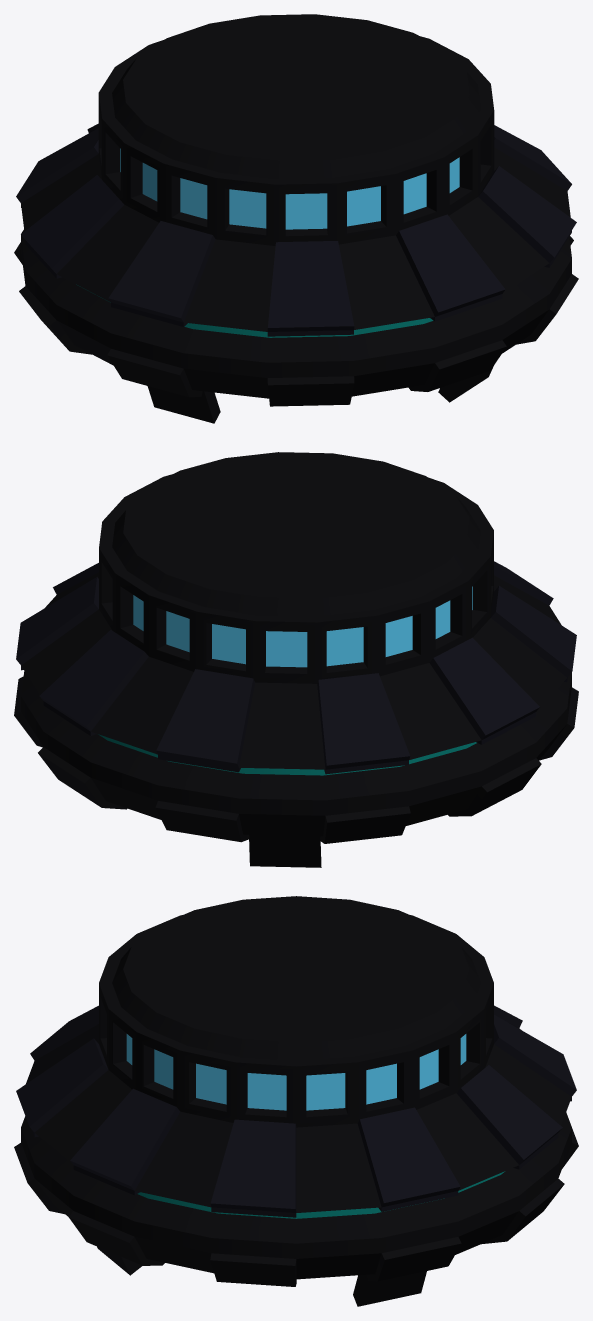
Rendered from mothership.obj.
The picture shows the model from 3 angles, top to bottom: view 1: azimuth 30°, elevation 25°; view 2: azimuth 150°, elevation 25°; view 3: azimuth 270°, elevation 25°; orthographic projection.
Parts seen in each view (by area): view 1: pCylinder2; view 2: pCylinder2; view 3: pCylinder2.
Part boxes in pixels (<box>): pCylinder2: <box>14,14,578,423</box>; pCylinder2: <box>14,452,578,867</box>; pCylinder2: <box>14,896,578,1306</box>.
Size of the model in its own units: 33.51 by 16.59 by 33.51.
